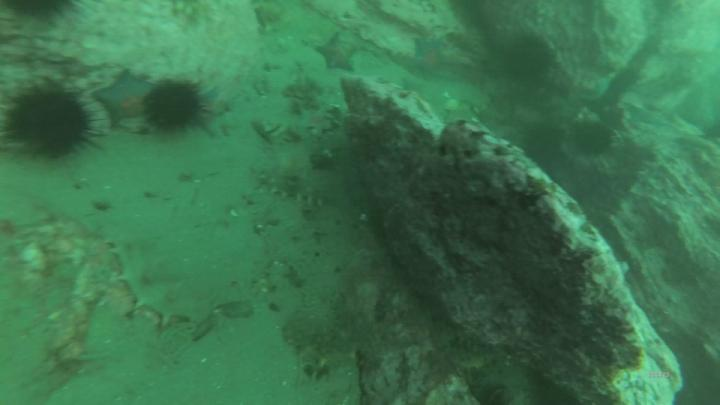echinus: (1, 79, 106, 165), (139, 77, 215, 140), (505, 32, 557, 85), (1, 1, 87, 30), (571, 119, 618, 161)
holothurian: (104, 229, 211, 327), (278, 292, 345, 353), (255, 166, 334, 210)
starfish: (91, 66, 154, 129), (316, 31, 361, 76), (412, 35, 451, 83), (194, 87, 229, 132)
